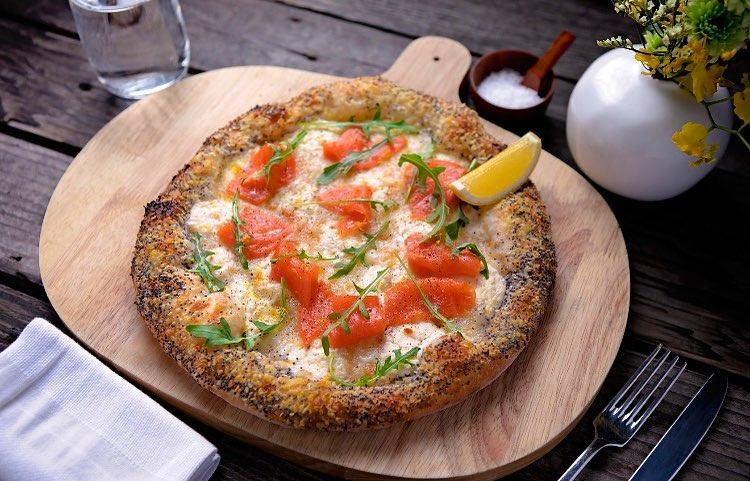Arugula: (297, 117, 422, 134), (334, 237, 379, 277), (428, 164, 451, 232), (197, 326, 282, 343), (192, 230, 215, 291), (232, 190, 246, 268)
Pizza: (132, 79, 558, 431)
Tomatoes: (382, 277, 476, 325), (227, 142, 296, 205), (406, 158, 468, 222), (219, 205, 291, 257), (406, 232, 481, 277), (311, 185, 373, 236), (272, 240, 317, 307), (329, 293, 382, 347), (297, 281, 329, 351), (350, 134, 406, 171), (321, 124, 368, 161)
